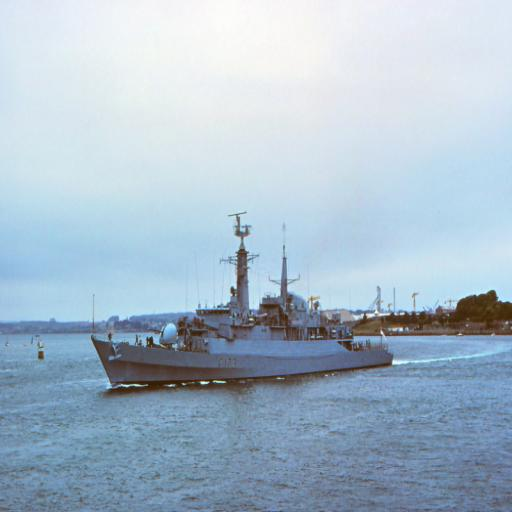Fragata: (89, 208, 397, 397)
